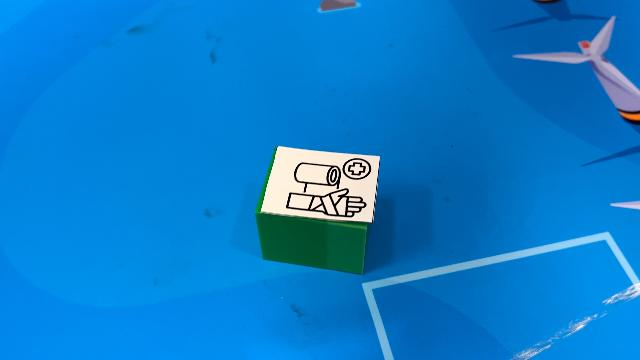bandage: (254, 144, 382, 274)
